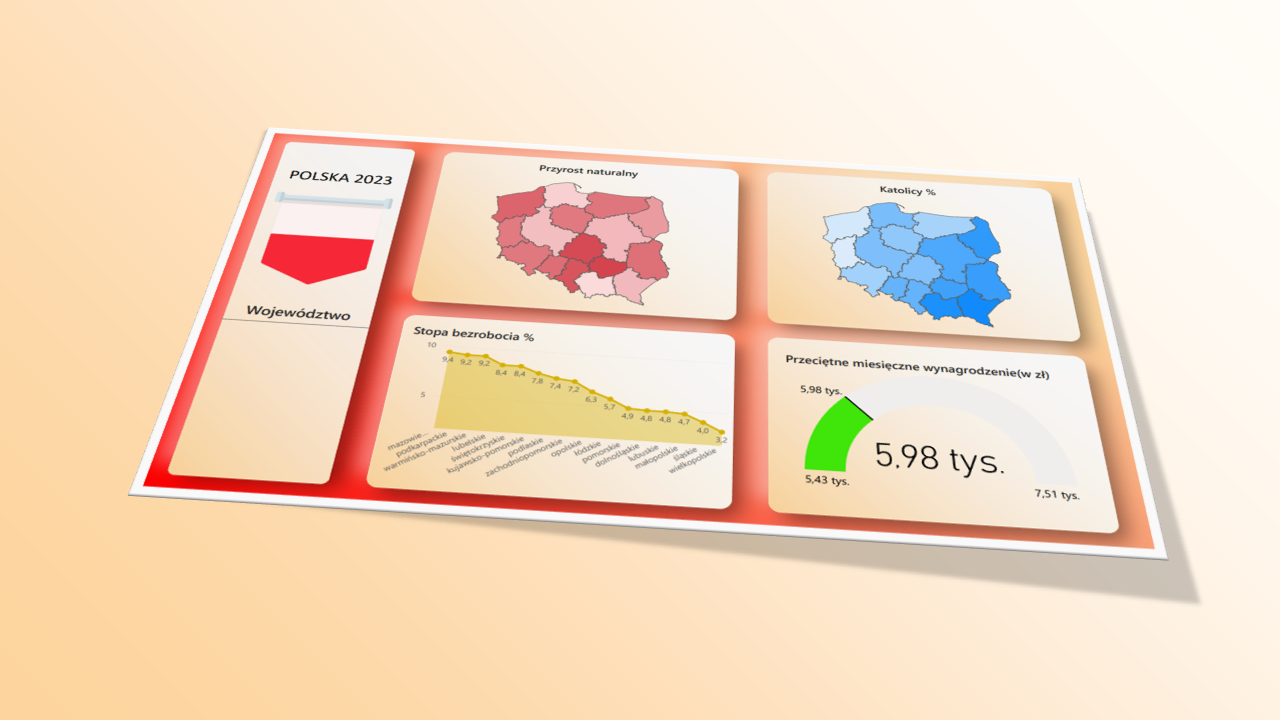

The dashboard page shown, as its layout file describes it:
{"tool":"powerbi","page":{"name":"Strona 1","canvas":[1280,720],"ordinal":0},"visuals":[{"type":"shapeMap","title":"Katolicy %","fields":{"Category":["Liczba Urodzeń.Województwo"],"Value":["Sum(Liczba Urodzeń.Osoby wierzące %)"]},"box":[796,40,424,320],"z":0},{"type":"shapeMap","title":"Przyrost naturalny ","fields":{"Category":["Liczba Urodzeń.Województwo"],"Value":["Sum(Liczba Urodzeń.Demografia)"]},"box":[292,40,436,320],"z":1000},{"type":"gauge","title":"Przeciętne miesięczne wynagrodzenie(w zł)","fields":{"Y":["Avg(Wynagrodzenie.Przeciętne miesięczne wynagrodzenie(w zł))"],"MinValue":["Wynagrodzenie.Minimalne wynagrodzenie"],"MaxValue":["Wynagrodzenie.Maksymalne Wynagrodzenie"],"TargetValue":["Wynagrodzenie.Średnie Wynagrodzenie"]},"box":[808,414,404,242],"z":2000},{"type":"stackedAreaChart","title":"Stopa bezrobocia  %","fields":{"Y":["Sum(Bezrobocie.Stopa bezrobocia %)"],"Category":["Bezrobocie.Województwo"]},"box":[292.9,404.4,449.8,275.9],"z":3000},{"type":"card","title":"Województwo ","fields":{"Values":["Min(Województwa.Column1)"]},"box":[32.1,381.7,204.1,88.8],"z":4000},{"type":"shape","box":[37.8,52.9,192.8,103.9],"z":5000},{"type":"image","box":[32.1,105.8,204.1,275.9],"z":6000}]}

Visuals, with their boxes in screenshot pixels (x1, y1, x2, y2), scaled from the page's 1280x720 canvas onto the 1280x720 screenshot:
"Katolicy %" shapeMap: <bbox>796, 40, 1220, 360</bbox>
"Przyrost naturalny " shapeMap: <bbox>292, 40, 728, 360</bbox>
"Przeciętne miesięczne wynagrodzenie(w zł)" gauge: <bbox>808, 414, 1212, 656</bbox>
"Stopa bezrobocia  %" stackedAreaChart: <bbox>293, 404, 743, 680</bbox>
"Województwo " card: <bbox>32, 382, 236, 470</bbox>
shape: <bbox>38, 53, 231, 157</bbox>
image: <bbox>32, 106, 236, 382</bbox>
